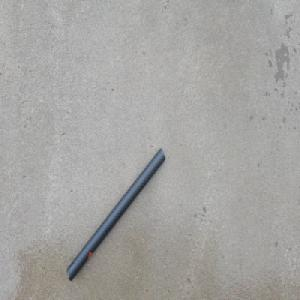LuggagePart: (66, 146, 165, 281)
